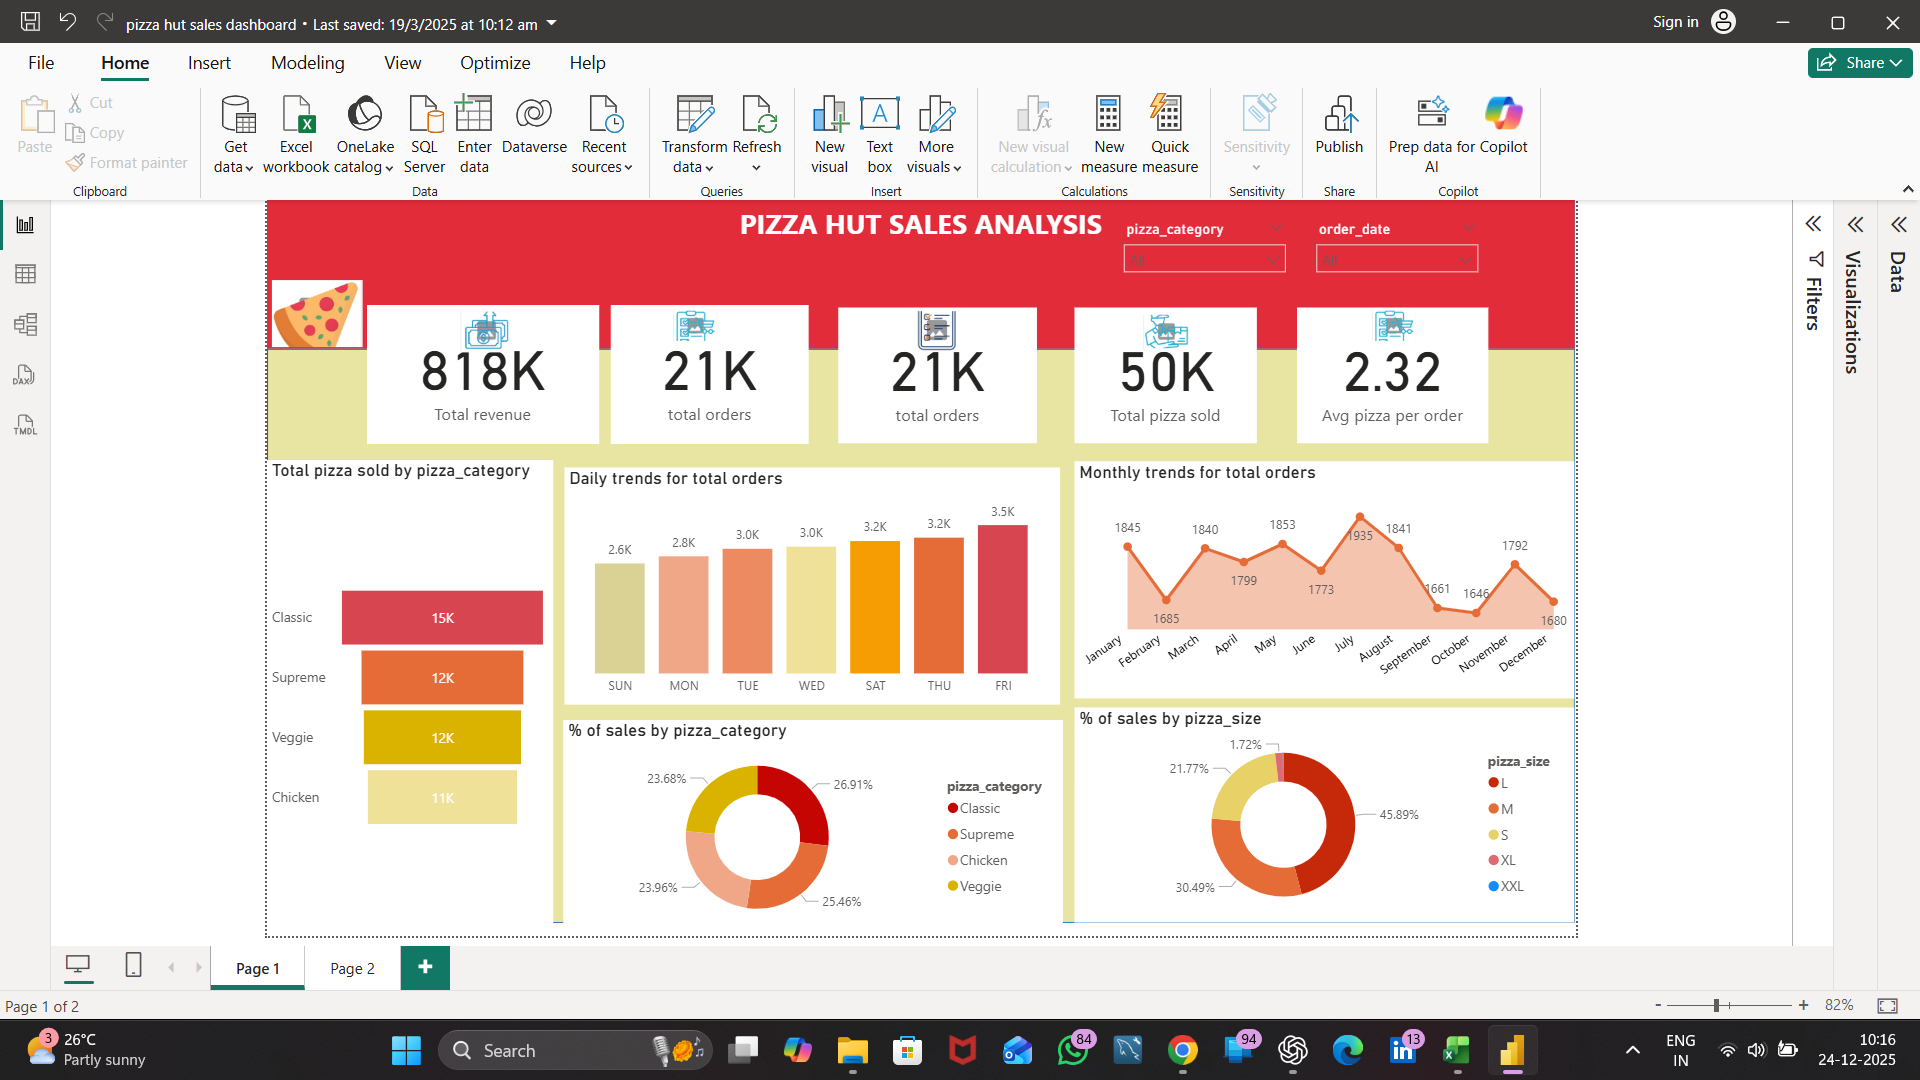

The dashboard page shown, as its layout file describes it:
{"tool":"powerbi","page":{"name":"Page 1","canvas":[1280,720],"ordinal":0},"visuals":[{"type":"shape","box":[0,0,1279.4,158.7],"z":0},{"type":"textbox","box":[0,219.5,1279,159],"z":1000},{"type":"textbox","box":[0,439.5,1279,159],"z":2000},{"type":"textbox","box":[0,0,1279.4,158.7],"z":3000},{"type":"shape","box":[0,145.4,1279.5,561.8],"z":4000},{"type":"card","fields":{"Values":["Measures (3).Total revenue"]},"box":[98.4,103,227.1,136.3],"z":5000},{"type":"card","fields":{"Values":["Measures (3).total orders"]},"box":[336.2,103,193.8,136.3],"z":6000},{"type":"card","fields":{"Values":["Measures (3).total orders"]},"box":[558.6,105.7,194.3,132.9],"z":7000},{"type":"card","fields":{"Values":["Measures (3).Total pizza sold"]},"box":[790,105.7,178.6,132.9],"z":8000},{"type":"card","fields":{"Values":["Measures (3).Avg pizza per order"]},"box":[1007.1,105.7,187.1,132.9],"z":9000},{"type":"image","box":[852.5,99.9,54.5,59.1],"z":10000},{"type":"image","box":[184.7,99.9,59.1,57.5],"z":11000},{"type":"image","box":[392.9,100,52.9,45.7],"z":12000},{"type":"image","box":[1075.7,100,52.9,45.7],"z":13000},{"type":"image","box":[628.6,104.3,54.3,48.6],"z":14000},{"type":"image","box":[0,15.7,98.6,190],"z":15000},{"type":"funnel","fields":{"Category":["pizza_sales.pizza_category"],"Y":["Measures (3).Total pizza sold"]},"box":[0,254.4,280.1,464.9],"z":16000},{"type":"columnChart","title":"Daily trends for total orders","fields":{"Category":["pizza_sales.Order day"],"Y":["Measures (3).total orders"]},"box":[290.7,262,484.5,231.7],"z":17000},{"type":"areaChart","title":"Monthly trends for total orders","fields":{"Category":["pizza_sales.order_date.Variation.Date Hierarchy.Month"],"Y":["Measures (3).total orders"]},"box":[790.4,255.9,489.1,231.7],"z":18000},{"type":"donutChart","title":"% of sales by pizza_category","fields":{"Category":["pizza_sales.pizza_category"],"Y":["Measures (3).Total revenue"]},"box":[289.2,508.8,489.1,210.5],"z":19000},{"type":"donutChart","title":"% of sales by pizza_size","fields":{"Y":["Measures (3).Total revenue"],"Category":["pizza_sales.pizza_size"]},"box":[790.4,496.7,489.1,210.5],"z":20000},{"type":"slicer","fields":{"Values":["pizza_sales.pizza_category"]},"box":[828.3,15.1,178.7,63.6],"z":21000},{"type":"slicer","fields":{"Values":["pizza_sales.order_date"]},"box":[1016,15.1,178.7,63.6],"z":22000}]}

Visuals, with their boxes on the page's 1280x720 design canvas (x1, y1, x2, y2). These are canvas units, not pixel positions in the 1920x1080 screenshot, which may show the page scaled, cropped or inside an application window:
shape: locate(0, 0, 1279, 159)
textbox: locate(0, 220, 1279, 378)
textbox: locate(0, 440, 1279, 598)
textbox: locate(0, 0, 1279, 159)
shape: locate(0, 145, 1280, 707)
card - Measures (3).Total revenue: locate(98, 103, 326, 239)
card - Measures (3).total orders: locate(336, 103, 530, 239)
card - Measures (3).total orders: locate(559, 106, 753, 239)
card - Measures (3).Total pizza sold: locate(790, 106, 969, 239)
card - Measures (3).Avg pizza per order: locate(1007, 106, 1194, 239)
image: locate(852, 100, 907, 159)
image: locate(185, 100, 244, 157)
image: locate(393, 100, 446, 146)
image: locate(1076, 100, 1129, 146)
image: locate(629, 104, 683, 153)
image: locate(0, 16, 99, 206)
funnel - pizza_sales.pizza_category x Measures (3).Total pizza sold: locate(0, 254, 280, 719)
"Daily trends for total orders" columnChart: locate(291, 262, 775, 494)
"Monthly trends for total orders" areaChart: locate(790, 256, 1280, 488)
"% of sales by pizza_category" donutChart: locate(289, 509, 778, 719)
"% of sales by pizza_size" donutChart: locate(790, 497, 1280, 707)
slicer - pizza_sales.pizza_category: locate(828, 15, 1007, 79)
slicer - pizza_sales.order_date: locate(1016, 15, 1195, 79)
